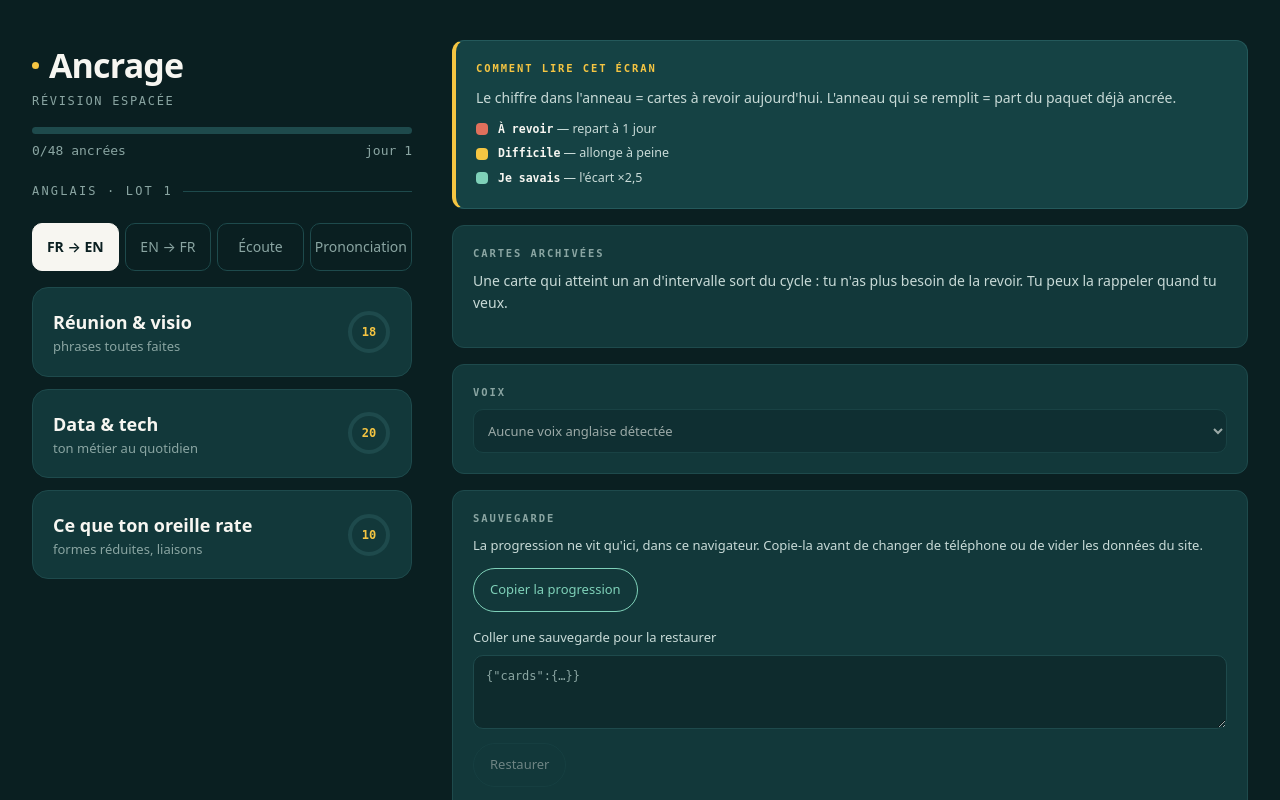
Test: raccourcis clavier › annoncent les touches sous la carte au-delà de 1024 px
The image size is (1280, 800).
Click the button "Réunion & visio phrases toutes faites 18" at {"x": 122, "y": 322}, box [32,287,412,377]
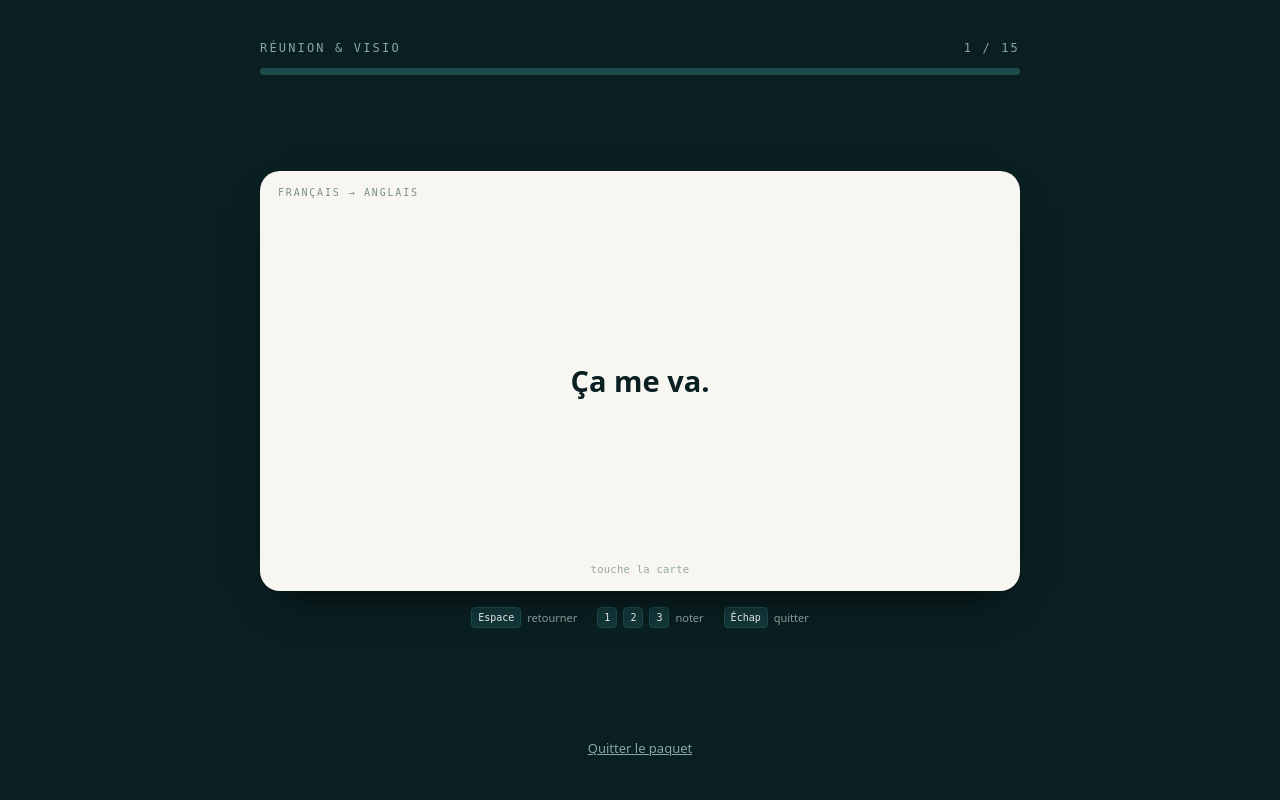
Expected: the text "retourner" is shown, [527,610,577,624]
Expected: the text "quitter" is shown, [774,610,809,624]
